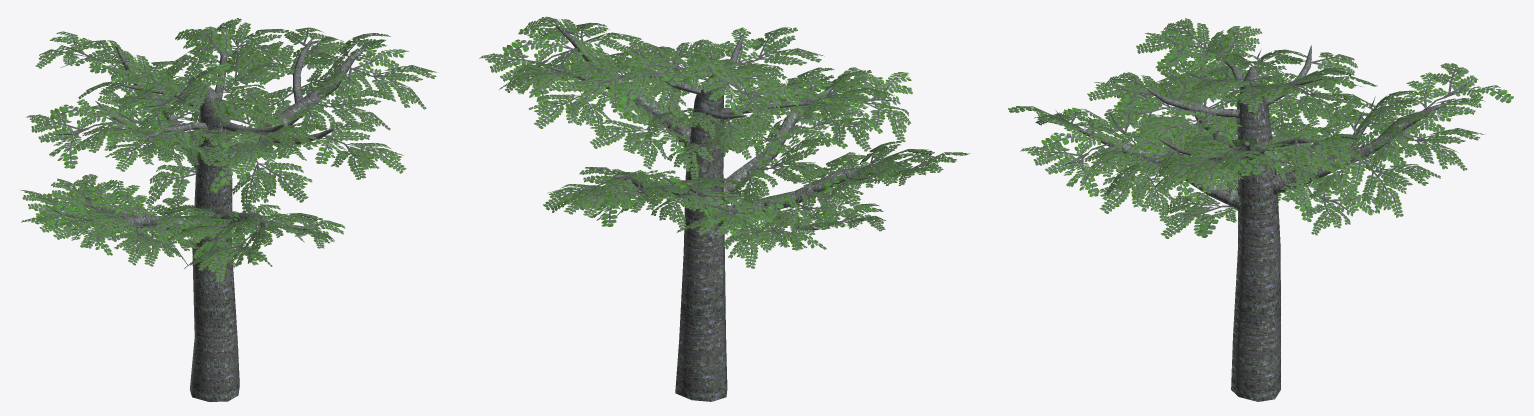
The model's file is Tree_03.obj.
3 views of the same model, side by side, from view 1: azimuth 30°, elevation 25°; view 2: azimuth 150°, elevation 25°; view 3: azimuth 270°, elevation 25° (orthographic). The views are drawn at different scales.
Visible parts, largest first — view 1: polySurface812; view 2: polySurface812; view 3: polySurface812.
Boxes of the visible parts, left/top/right/bottom form: polySurface812: left=20, top=18, right=438, bottom=401; polySurface812: left=479, top=16, right=969, bottom=401; polySurface812: left=1008, top=18, right=1513, bottom=401.
Bounding box in the file's own units: 210 × 155 × 216.
